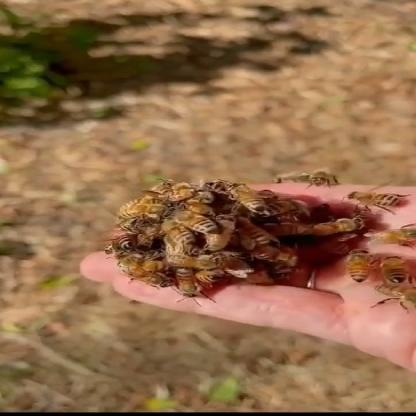bee: (92, 144, 336, 312), (342, 178, 416, 328)
